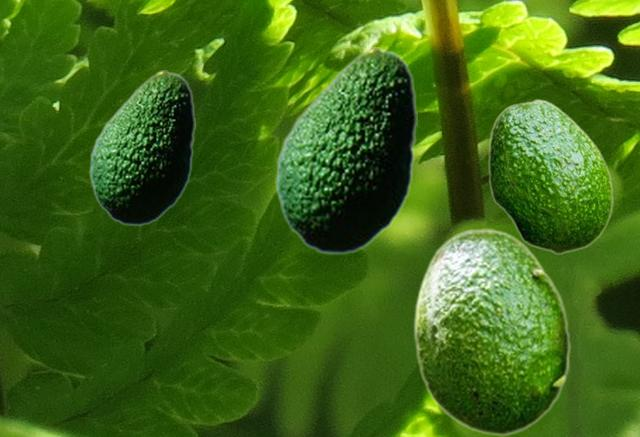avocado: (412, 228, 570, 435), (275, 47, 416, 254), (487, 98, 612, 253), (89, 70, 194, 225)
